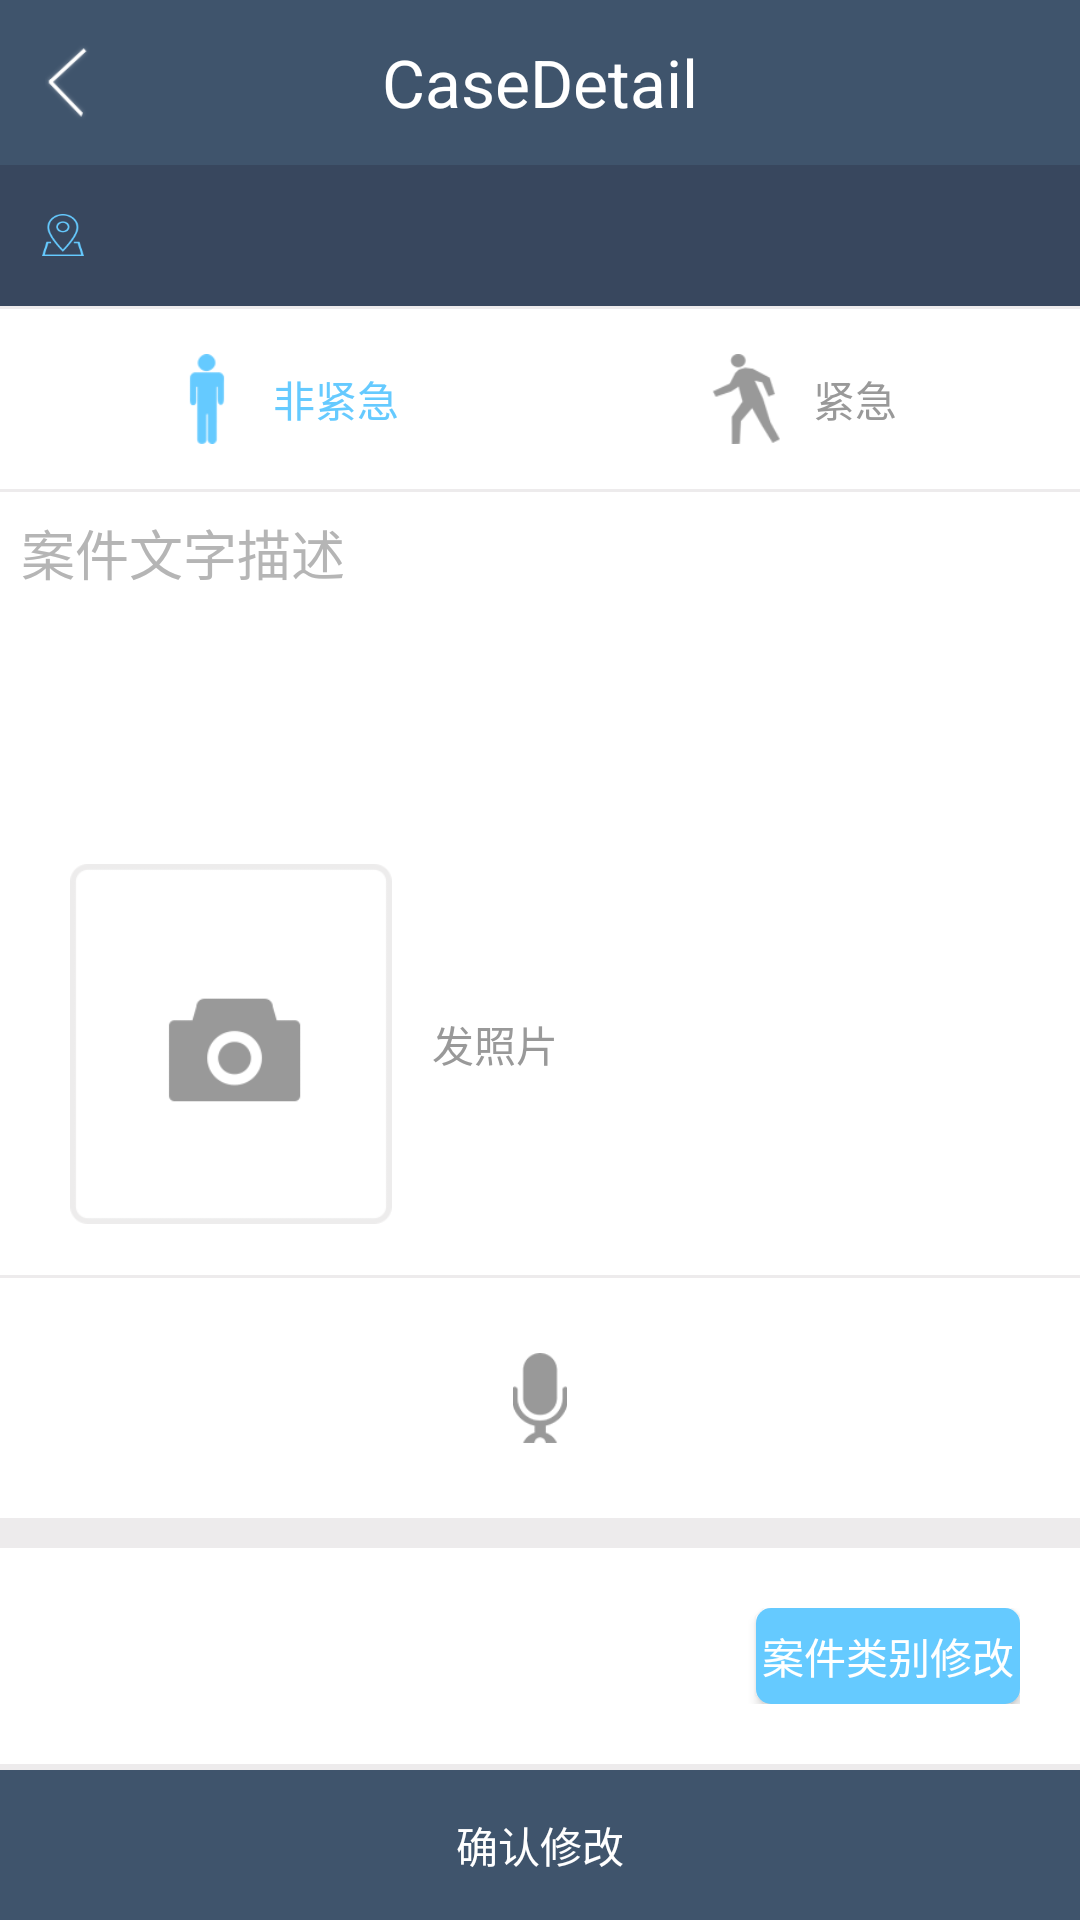

Screen size 1080px x 1920px. Icon name, then its center in pixels as (x,y):
back: (67,82)
location report: (63,235)
microphone report: (540,1398)
take photo: (234,1050)
